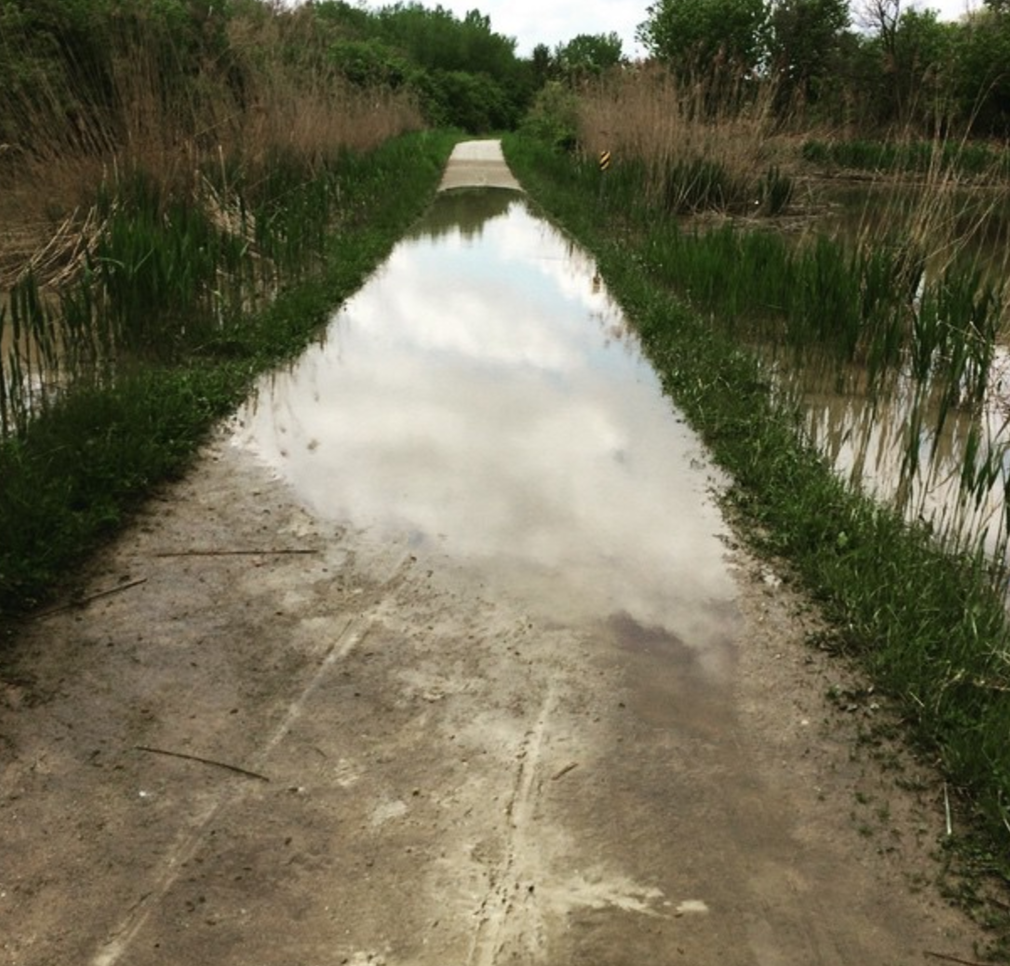vegetation: (1, 1, 363, 282), (641, 232, 933, 375), (563, 86, 768, 249), (814, 122, 1010, 171)
water: (231, 178, 759, 602), (770, 301, 1010, 565), (831, 185, 1010, 259), (1, 308, 90, 411)
